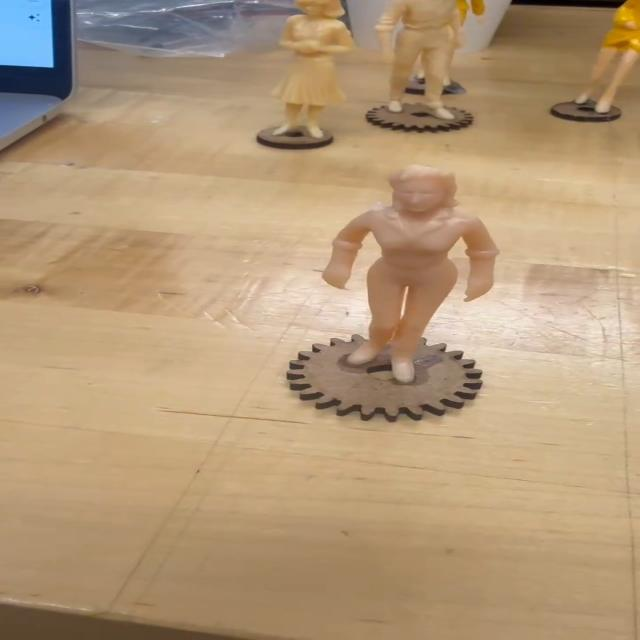Unauthorized: (270, 163, 502, 428)
